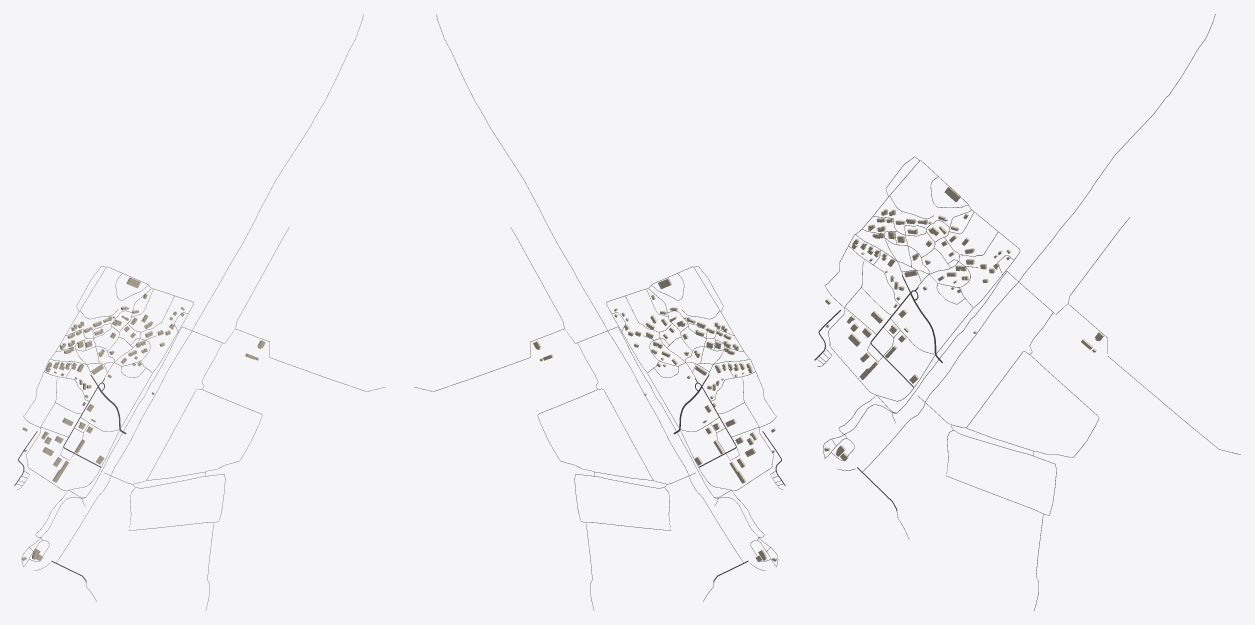
Rendered from historic-palestine-14_33_3562_3272.glb.
3 renders of one model, left to right at view 1: azimuth 30°, elevation 25°; view 2: azimuth 150°, elevation 25°; view 3: azimuth 330°, elevation 25°, orthographic. The views are drawn at different scales.
Size of the model in its own units: 1314 by 1888 by 8.7.
